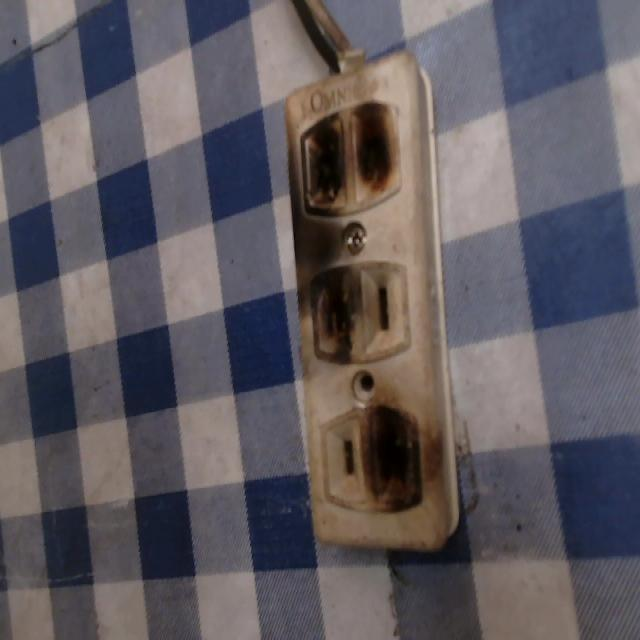-: (295, 100, 412, 215), (304, 259, 361, 369), (367, 398, 424, 506)
